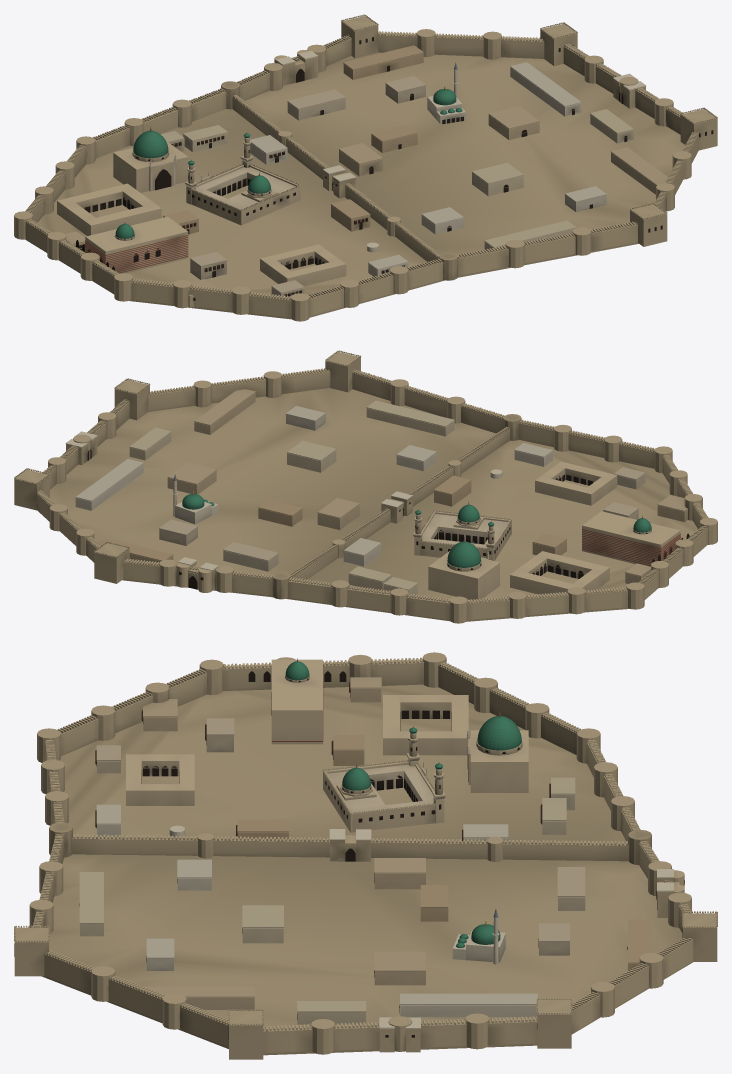
The model's file is citadel-1600.glb.
3 views of the same model, one above another, from view 1: azimuth 30°, elevation 25°; view 2: azimuth 150°, elevation 25°; view 3: azimuth 270°, elevation 25° (orthographic). The views are drawn at different scales.
Parts seen in each view (by area): view 1: p0_rock, p1_walls, p3_palaces, p4_mosques and domes, p2_towers and gates; view 2: p0_rock, p1_walls, p3_palaces, p2_towers and gates, p4_mosques and domes; view 3: p0_rock, p1_walls, p3_palaces, p4_mosques and domes, p2_towers and gates.
Part boxes in pixels (box(x1,y1,x2,y2)): p0_rock: box(26, 52, 684, 319); p1_walls: box(14, 29, 698, 321); p3_palaces: box(57, 45, 667, 307); p4_mosques and domes: box(114, 62, 465, 240); p2_towers and gates: box(274, 14, 717, 246); p0_rock: box(50, 388, 697, 621); p1_walls: box(36, 368, 717, 623); p3_palaces: box(75, 389, 689, 600); p2_towers and gates: box(14, 350, 412, 592); p4_mosques and domes: box(172, 474, 651, 571); p0_rock: box(42, 684, 692, 1055); p1_walls: box(29, 652, 693, 1054); p3_palaces: box(79, 659, 652, 1024); p4_mosques and domes: box(285, 658, 522, 964); p2_towers and gates: box(14, 829, 717, 1059).
Size of the model in its own units: 527 by 45.58 by 411.
